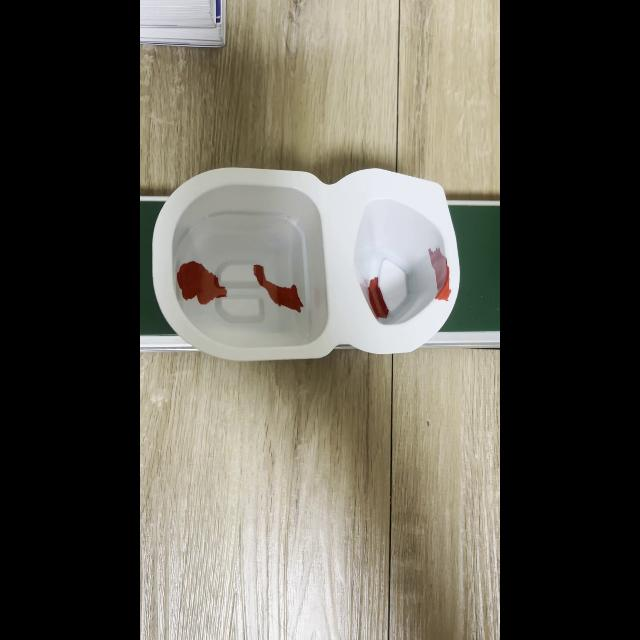dirty: (157, 190, 457, 344)
